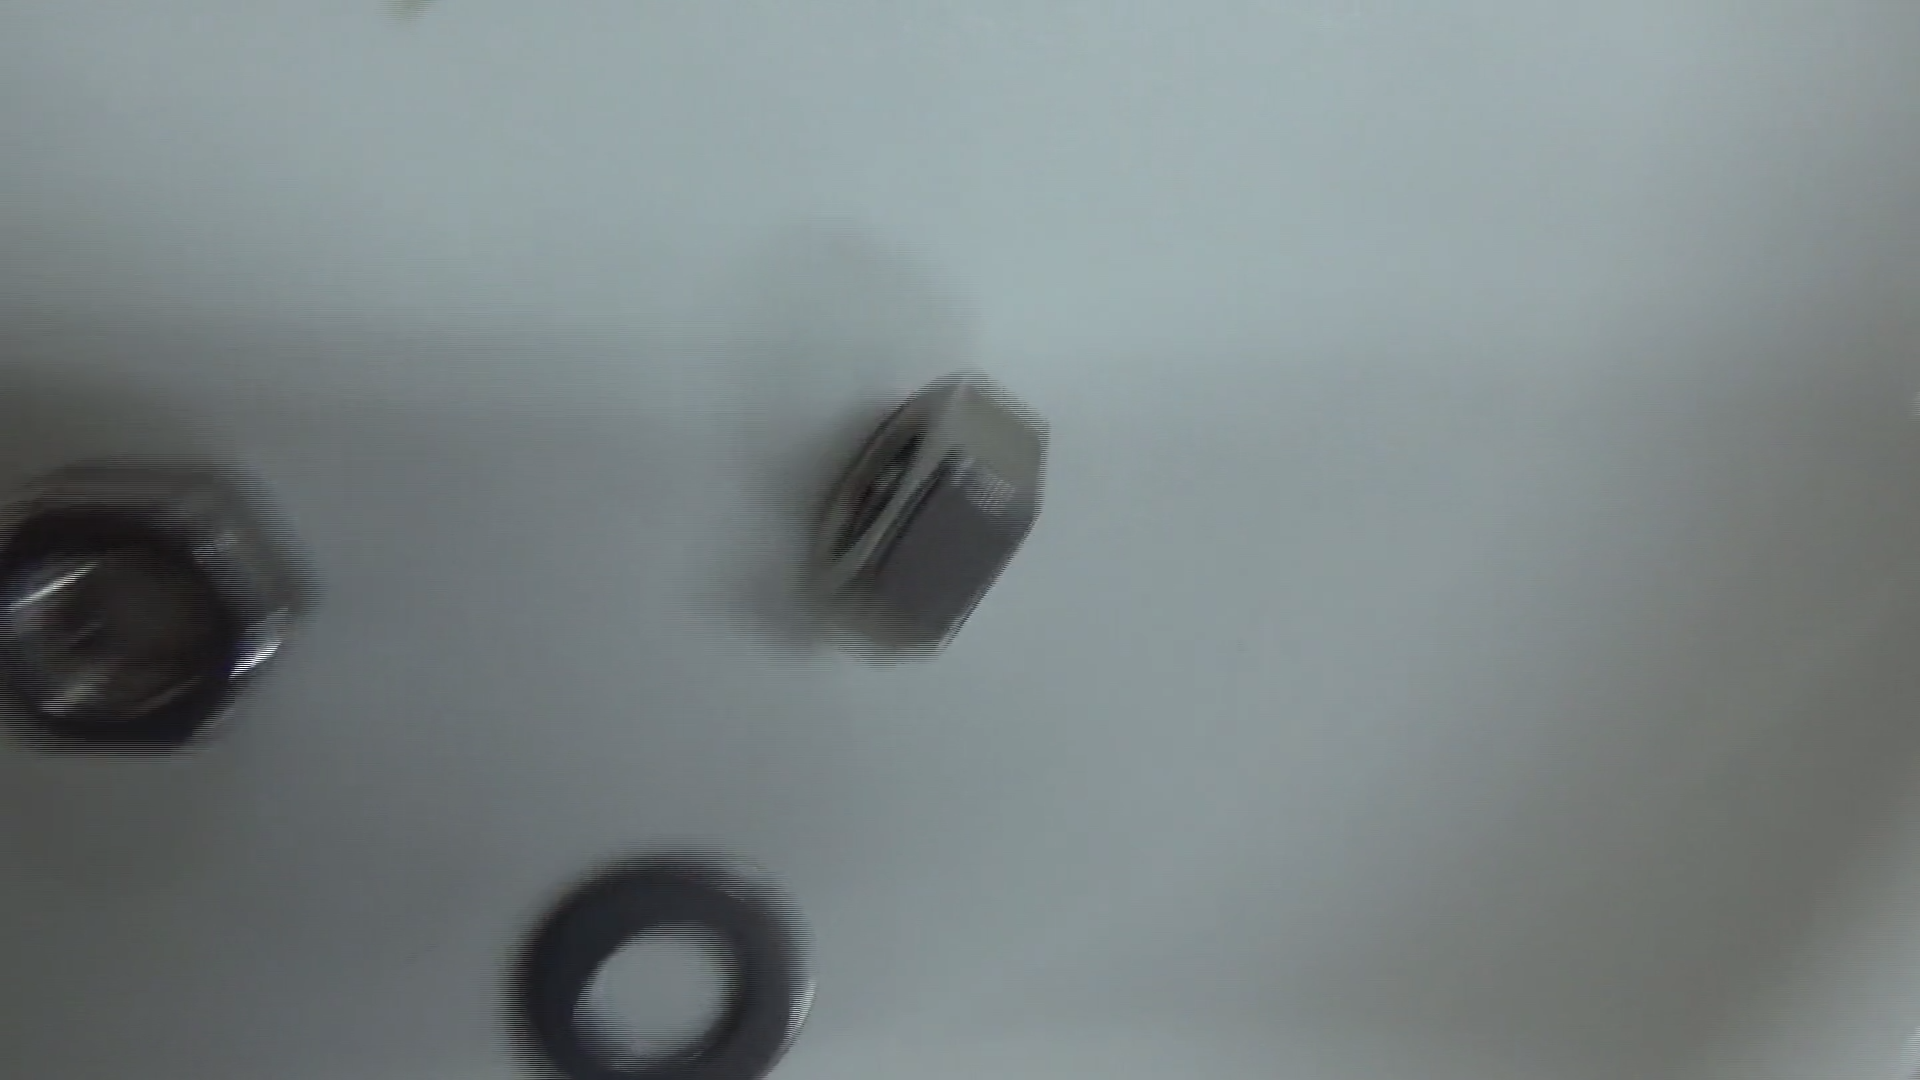nut: (3, 455, 320, 758), (791, 365, 1047, 665)
washer: (496, 839, 815, 1080)
